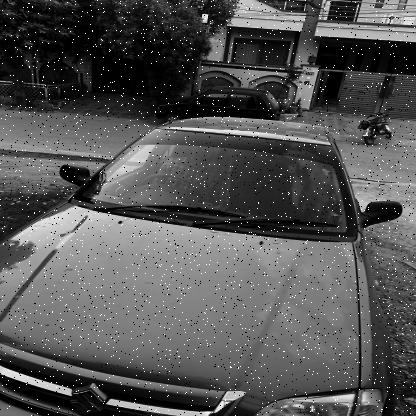no_seatbelt: (167, 146, 217, 190)
